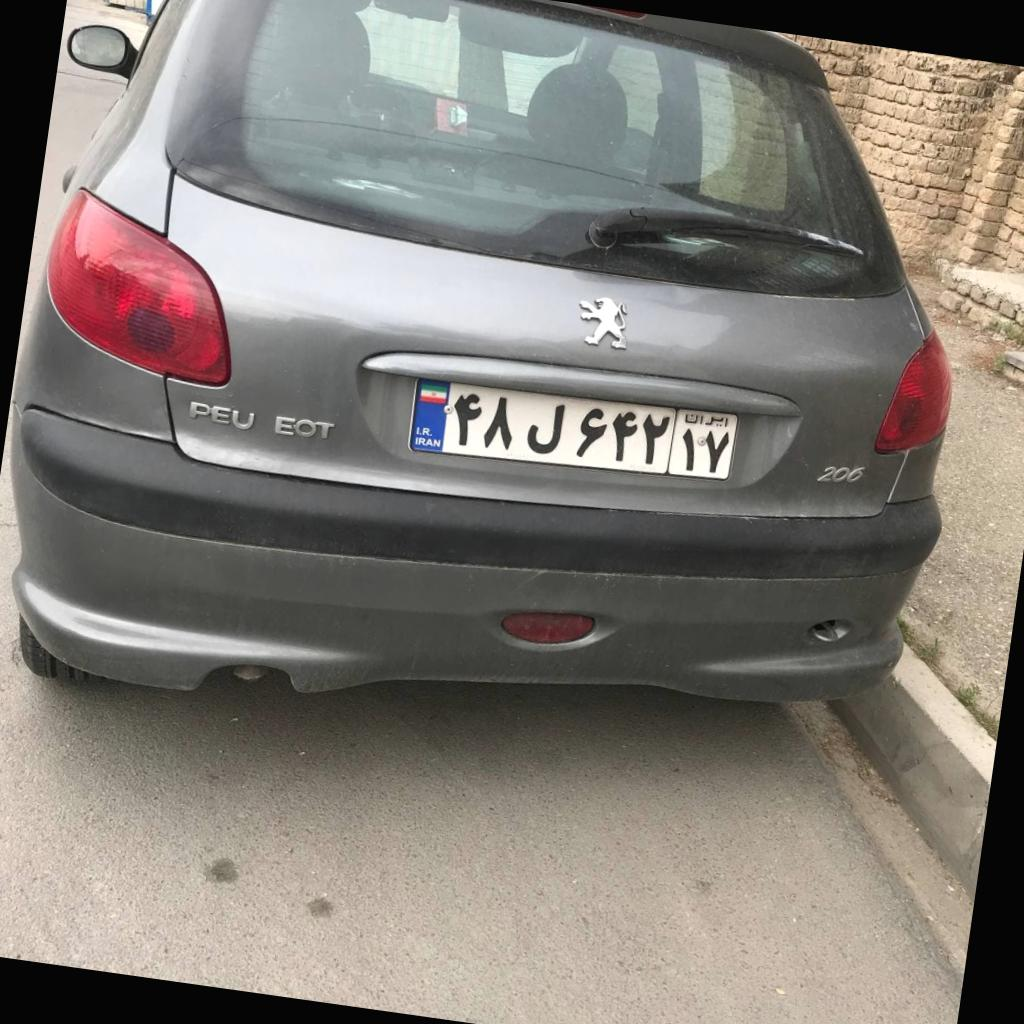Plates: (407, 378, 738, 479)
